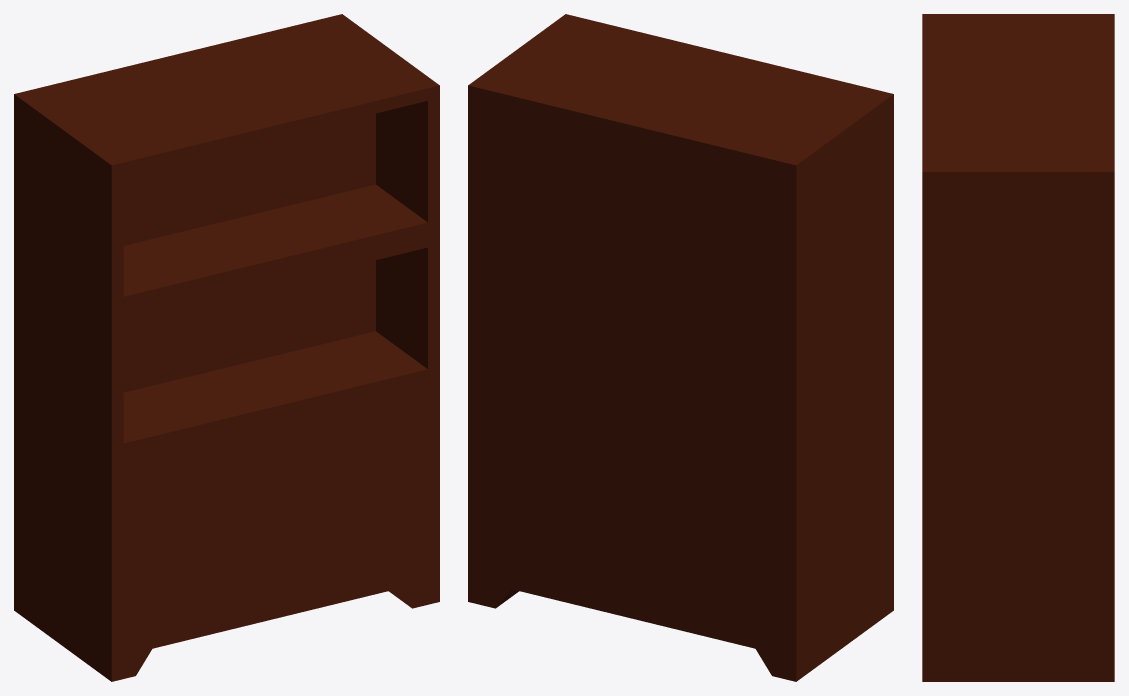
The model's file is Shkaf.FBX.
3 views of the same model, side by side, from view 1: azimuth 30°, elevation 25°; view 2: azimuth 150°, elevation 25°; view 3: azimuth 270°, elevation 25° (orthographic).
Parts seen in each view (by area): view 1: Box001; view 2: Box001; view 3: Box001.
Part boxes in pixels (x1=…): Box001: x1=14, y1=14, x2=439, y2=681; Box001: x1=468, y1=14, x2=893, y2=681; Box001: x1=922, y1=14, x2=1114, y2=681.
Bounding box in the file's own units: 65.57 × 98.63 × 33.77.
